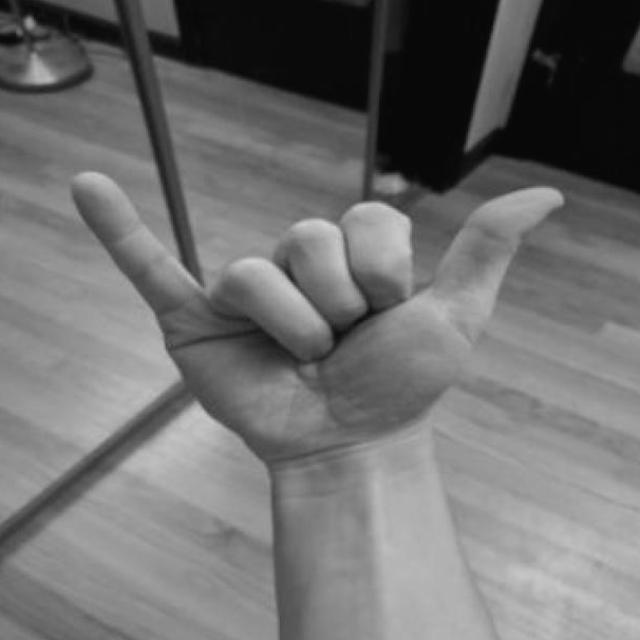Y: (66, 144, 577, 478)
